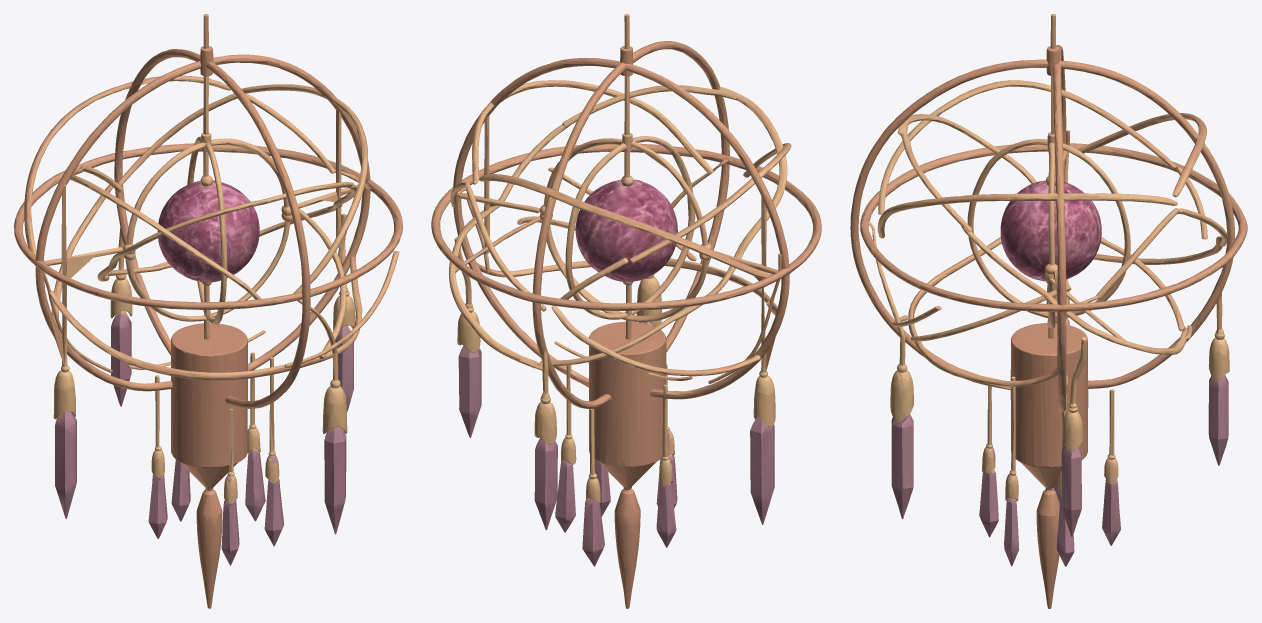
3 views of the same model, side by side, from view 1: azimuth 30°, elevation 25°; view 2: azimuth 150°, elevation 25°; view 3: azimuth 270°, elevation 25° (orthographic).
Parts seen in each view (by area): view 1: Mesh_0; view 2: Mesh_0; view 3: Mesh_0.
Part boxes in pixels (x1,y1,x2,y2): Mesh_0: (14, 14, 402, 608); Mesh_0: (431, 14, 821, 608); Mesh_0: (850, 14, 1247, 608).
Size of the model in its own units: 1.13 by 1.9 by 1.15.
Materials: 1 (1 with a texture image).
